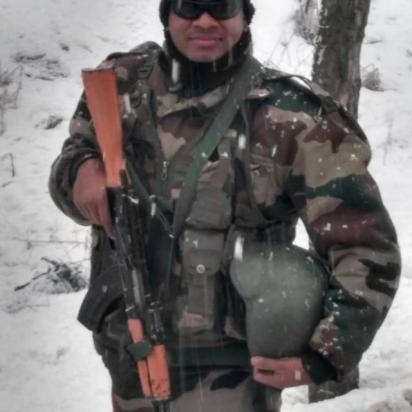Gun: (79, 63, 175, 412)
